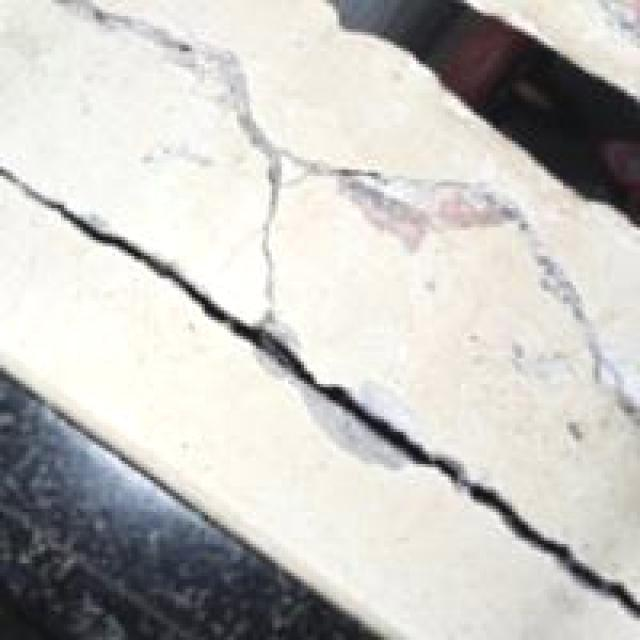SurfaceCrack: (266, 312, 640, 624), (0, 152, 336, 376)
